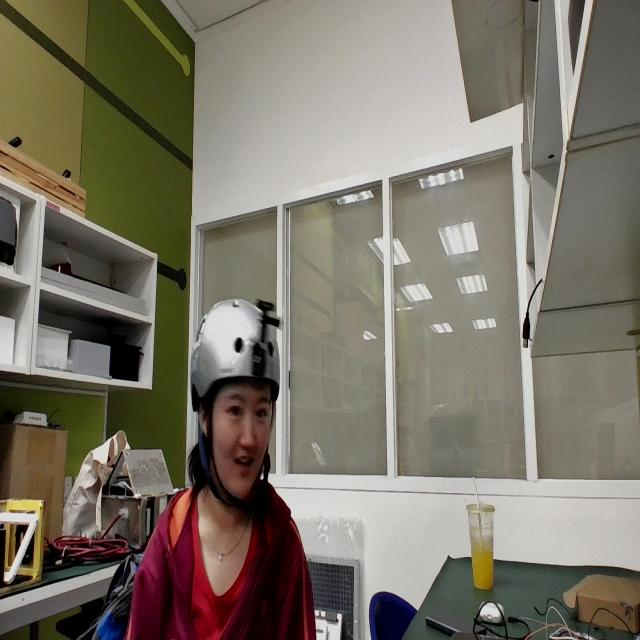With Helmet: (171, 274, 316, 534)
